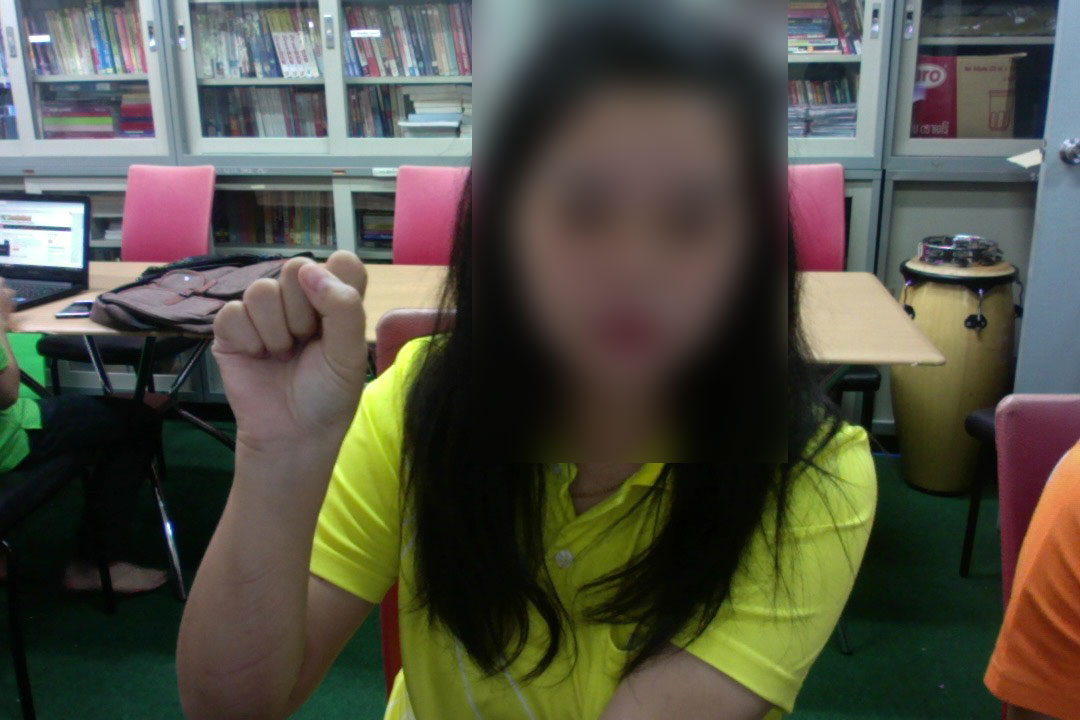sor: (204, 247, 380, 463)
